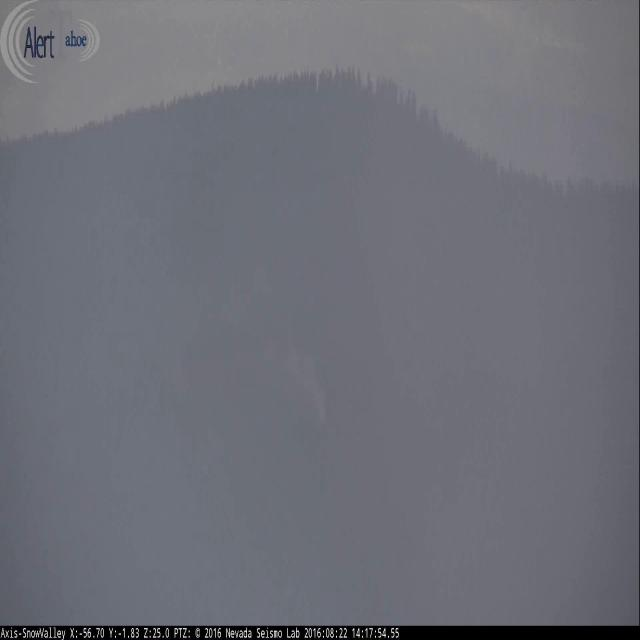smoke: (219, 217, 334, 434)
